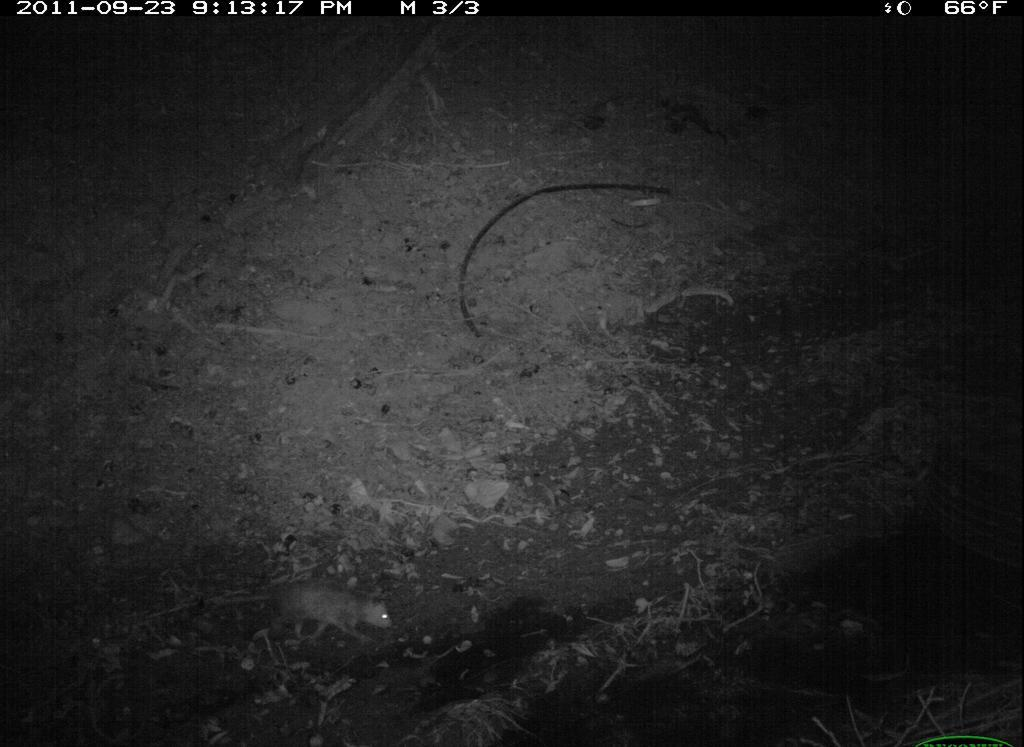opossum: (191, 570, 401, 657)
